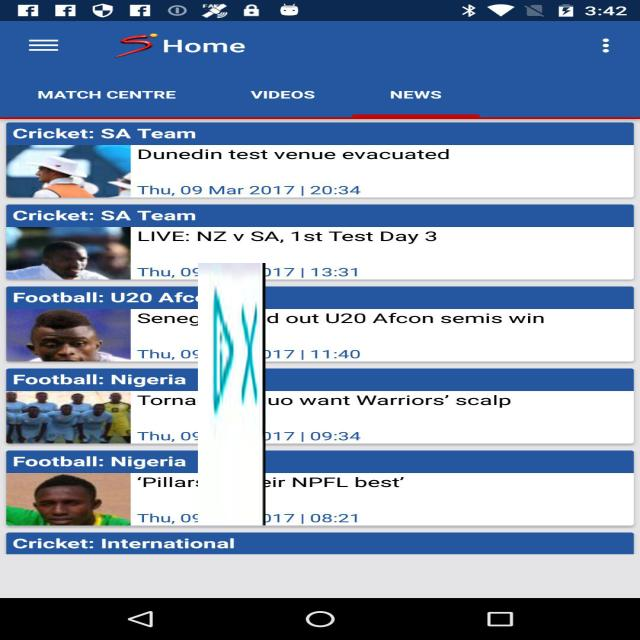sneaking: (198, 263, 265, 525)
